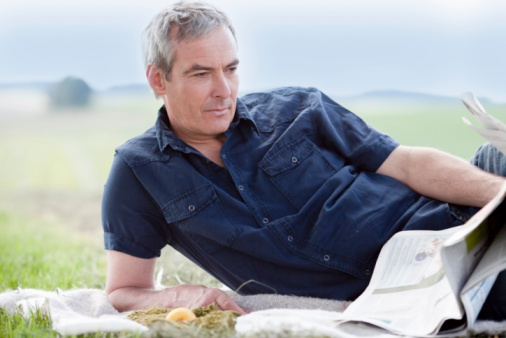deitado: (69, 0, 496, 335)
